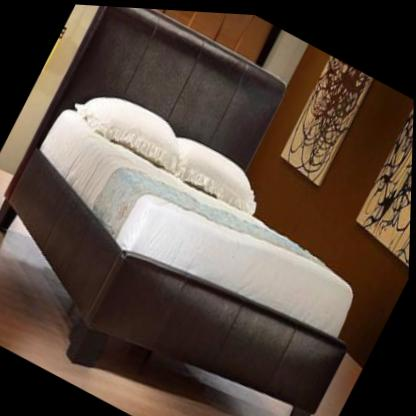Bed: (6, 5, 352, 416)
